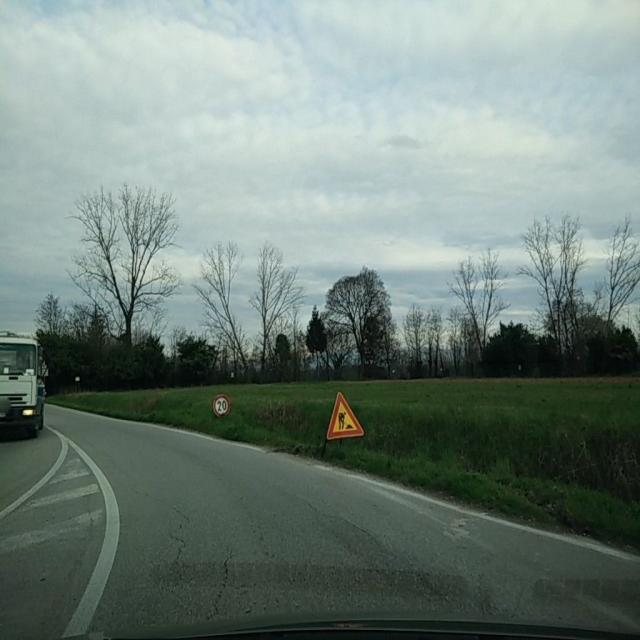car: (0, 329, 46, 441)
